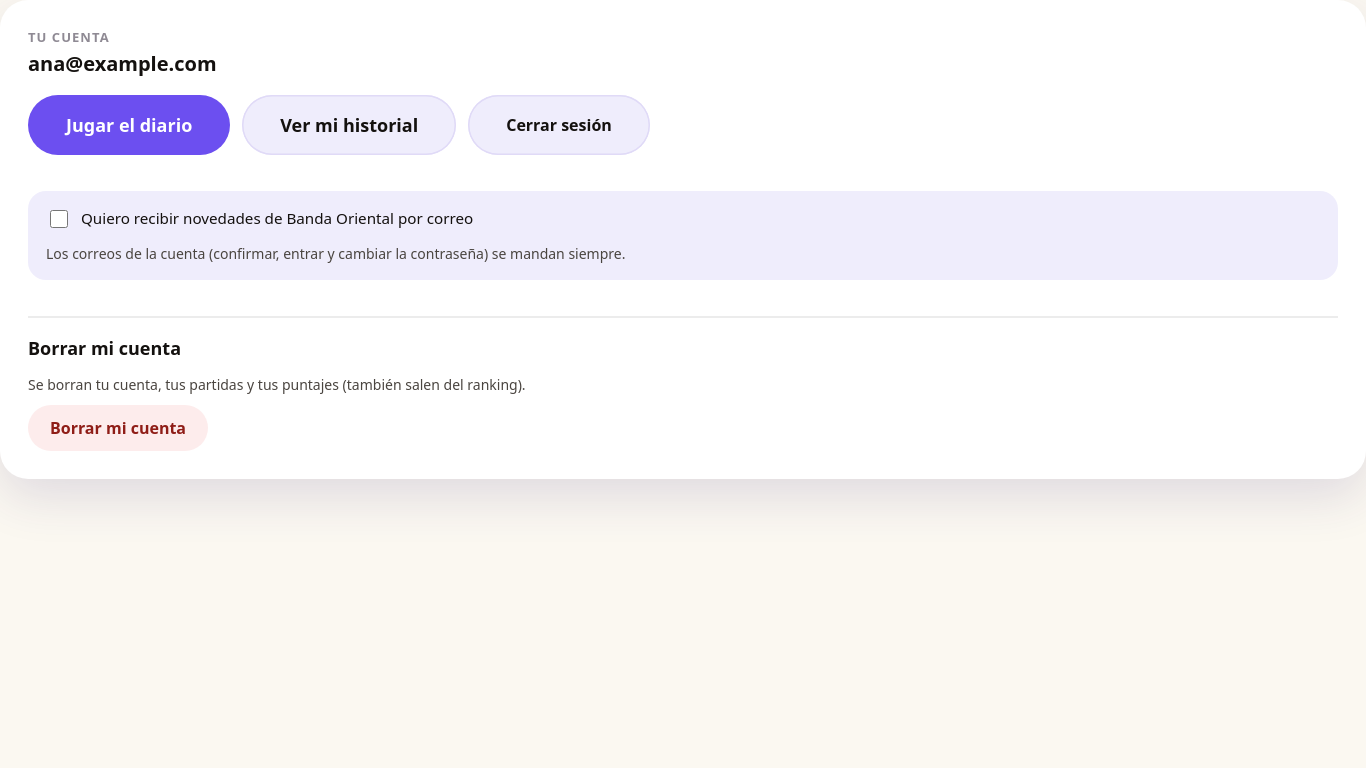
Test: PanelCuenta: novedades por correo › si el servidor no lo pudo guardar, lo dice y deja la casilla como estaba
Click the checkbox labelled "Quiero recibir novedades de Banda Oriental por correo": (59, 219) 50,210 -> 68,228
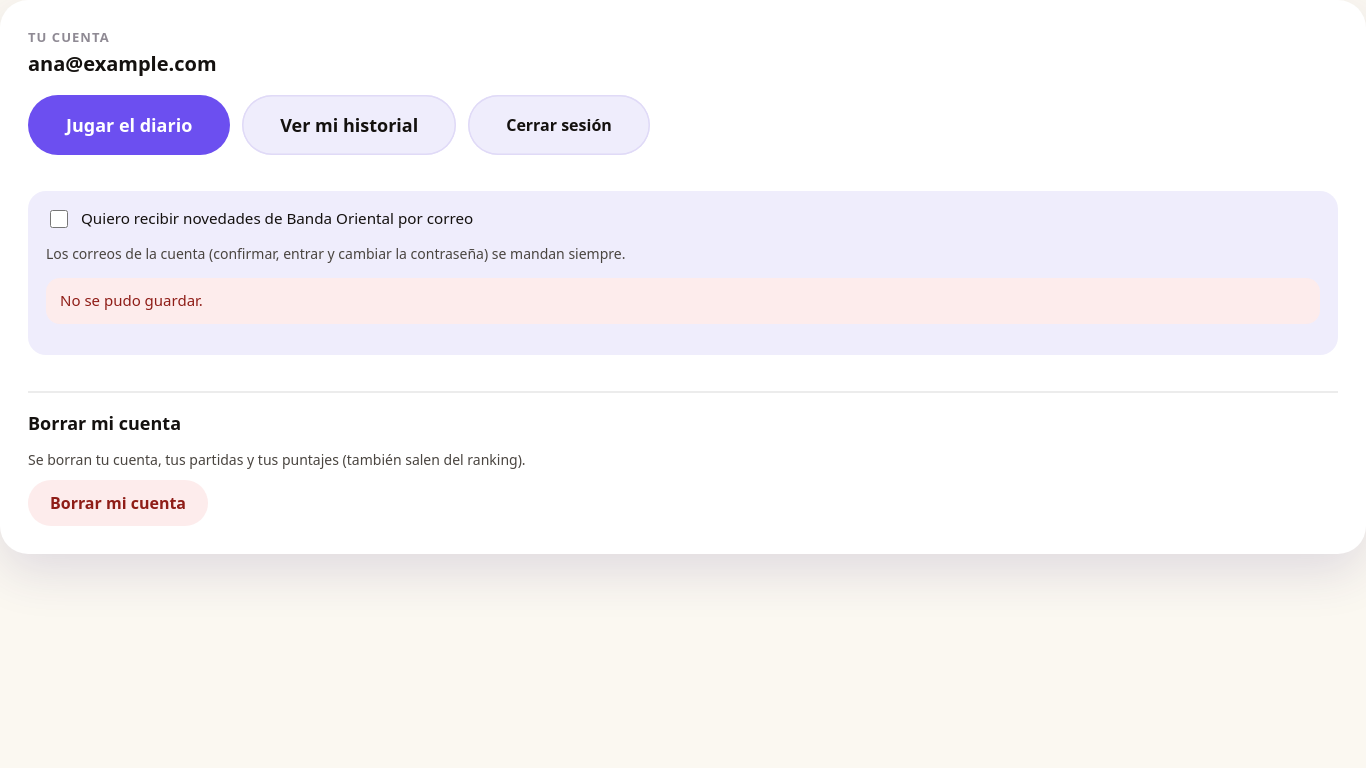
Now the message reads "No se pudo guardar.", box 60,290 -> 203,310
